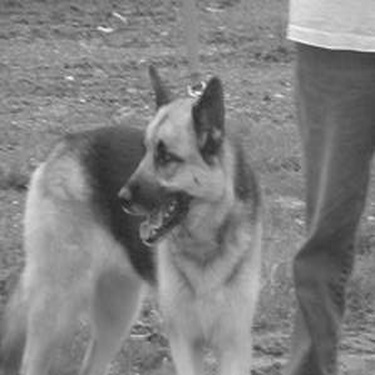dog: (1, 59, 268, 373)
